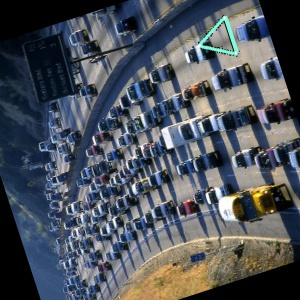triangle: (196, 12, 241, 57)
